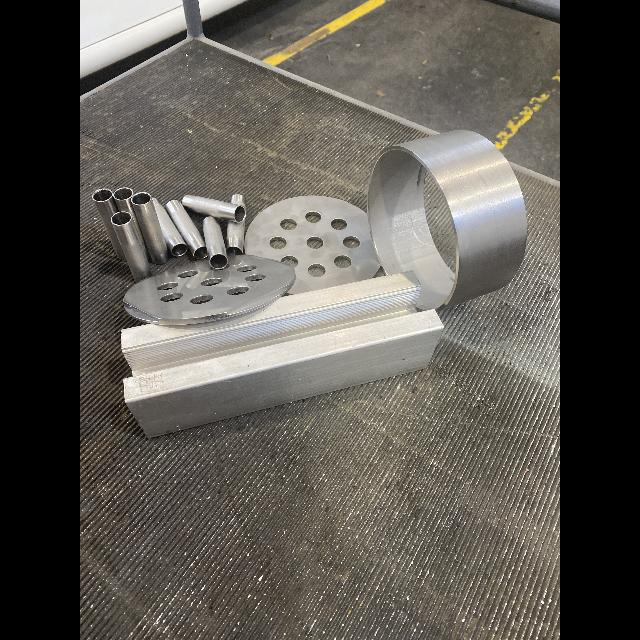Aluminium: (121, 270, 444, 440)
Stainless Steel: (367, 129, 528, 311), (244, 195, 381, 295), (124, 255, 295, 325), (111, 212, 152, 282), (131, 192, 167, 263), (92, 189, 126, 260), (165, 200, 206, 256), (113, 187, 148, 252), (152, 198, 187, 257), (183, 194, 247, 223), (203, 216, 228, 270), (226, 220, 246, 253), (232, 195, 246, 209)
